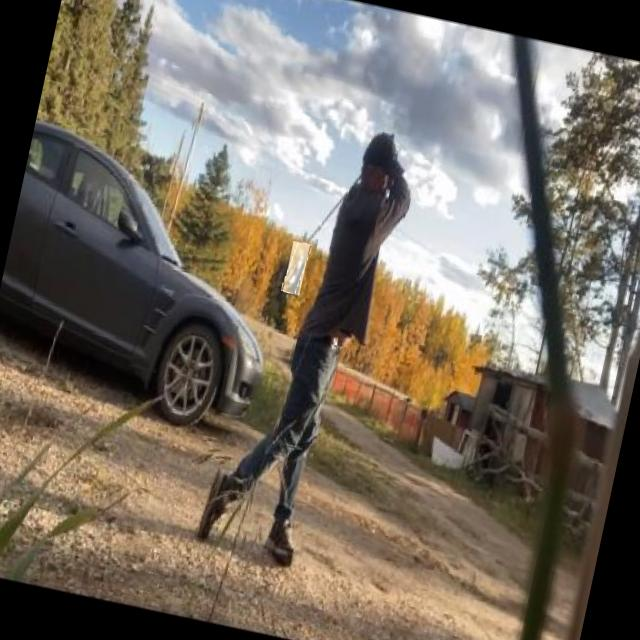club head: (282, 241, 310, 295)
